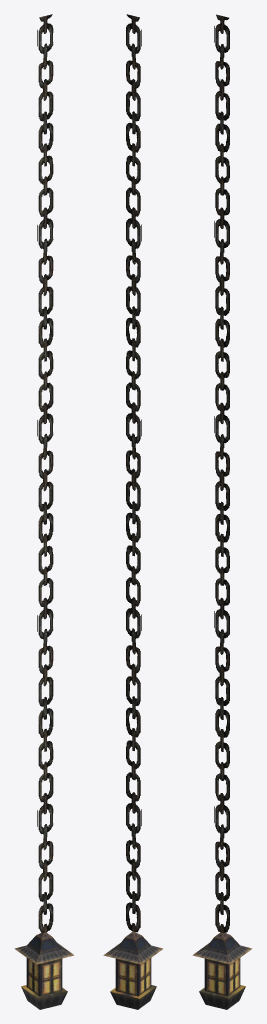
The model's file is diaodeng.FBX.
3 views of the same model, side by side, from view 1: azimuth 30°, elevation 25°; view 2: azimuth 150°, elevation 25°; view 3: azimuth 330°, elevation 25° (orthographic).
Parts seen in each view (by area): view 1: link, diaodeng; view 2: link, diaodeng; view 3: link, diaodeng.
Boxes of the visible parts, x1,y1,x2,y2 form: link: (37,14,53,932); diaodeng: (14,932,74,1009); link: (126,14,141,932); diaodeng: (103,931,163,1009); link: (214,14,229,933); diaodeng: (192,932,252,1009).
Bounding box in the file's own units: 42.42 × 1043 × 42.42.
